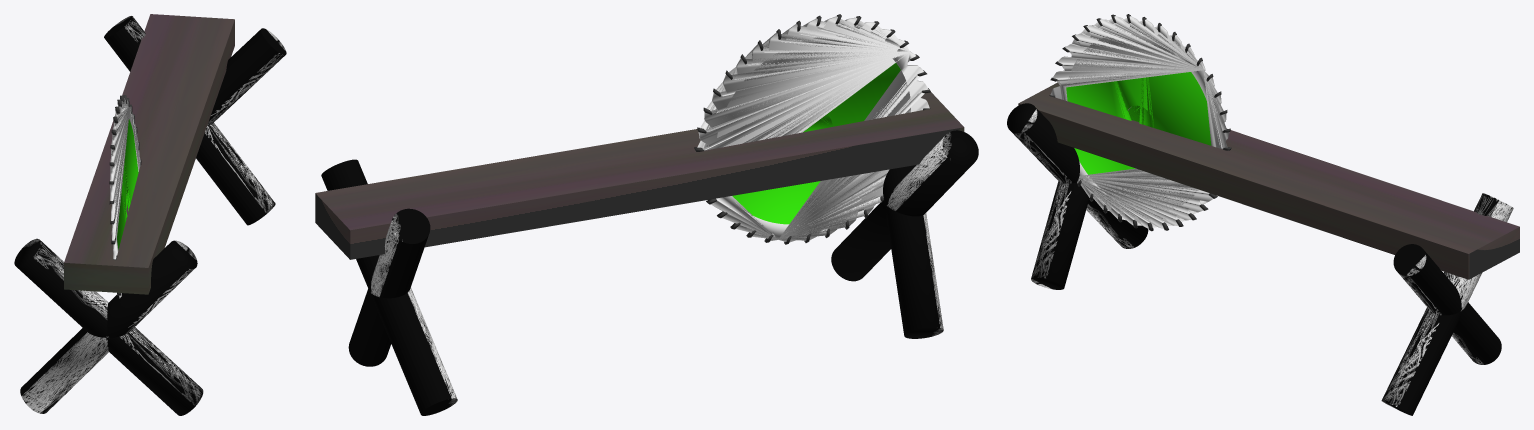
File: Sawmill.fbx
3 views of the same model, side by side, from view 1: azimuth 30°, elevation 25°; view 2: azimuth 150°, elevation 25°; view 3: azimuth 270°, elevation 25° (orthographic). The views are drawn at different scales.
Parts seen in each view (by area): view 1: Cube.002; view 2: Cube.002; view 3: Cube.002.
Part boxes in pixels (x1,y1,x2,y2): Cube.002: [14, 14, 286, 415]; Cube.002: [315, 14, 978, 415]; Cube.002: [1007, 14, 1519, 415].
Size of the model in its own units: 82.25 by 51.7 by 88.68.
